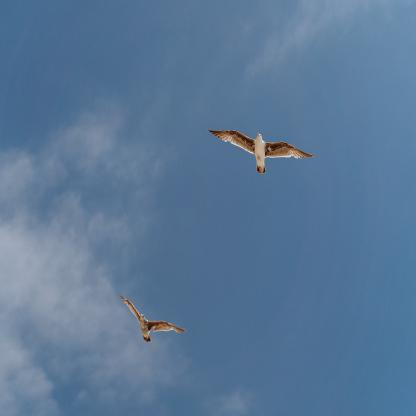bird: (208, 127, 314, 175), (118, 294, 186, 344)
